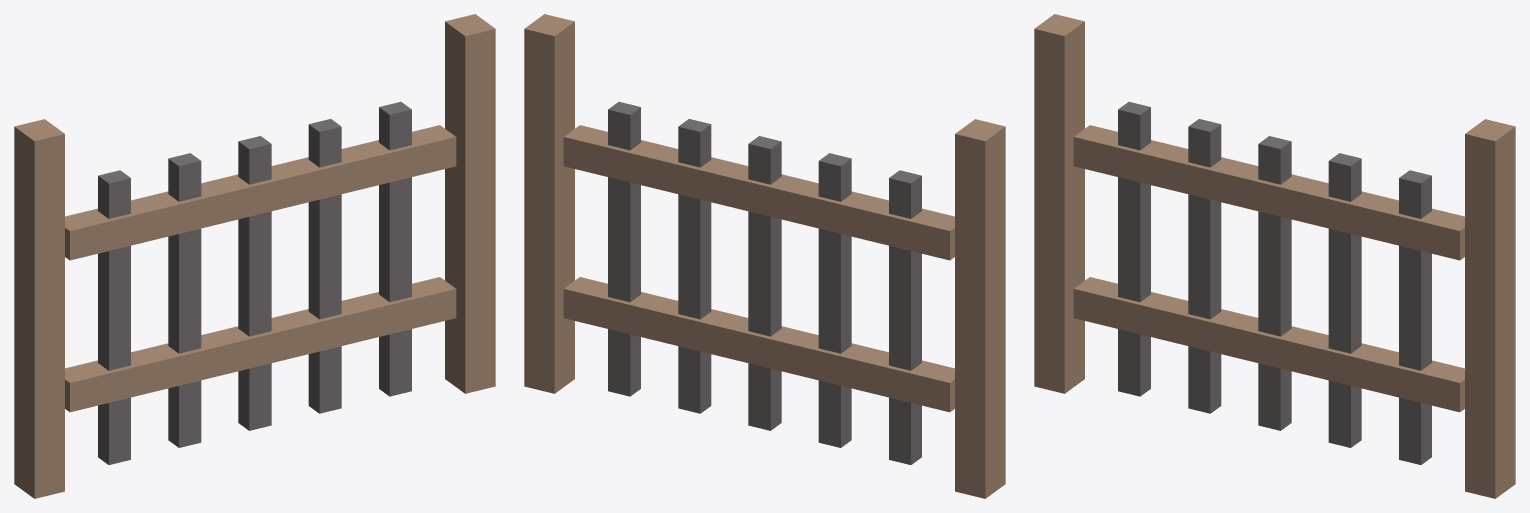
Rendered from low_courtyard_fence_gate.glb.
3 renders of one model, left to right at view 1: azimuth 30°, elevation 25°; view 2: azimuth 150°, elevation 25°; view 3: azimuth 330°, elevation 25°, orthographic.
Parts seen in each view (by area): view 1: box_0, box_1, box_7, box_8, box_3, box_4, box_5, box_6, box_2; view 2: box_0, box_1, box_7, box_8, box_3, box_4, box_5, box_6, box_2; view 3: box_1, box_0, box_7, box_8, box_5, box_4, box_3, box_2, box_6.
Part boxes in pixels (bbox=[...]): box_0: bbox=[14, 119, 64, 498]; box_1: bbox=[445, 14, 495, 393]; box_7: bbox=[65, 277, 456, 412]; box_8: bbox=[65, 125, 456, 260]; box_3: bbox=[168, 153, 201, 447]; box_4: bbox=[238, 136, 271, 430]; box_5: bbox=[308, 119, 341, 413]; box_6: bbox=[379, 101, 411, 396]; box_2: bbox=[98, 170, 130, 464]; box_0: bbox=[955, 119, 1005, 498]; box_1: bbox=[524, 14, 574, 393]; box_7: bbox=[563, 277, 954, 412]; box_8: bbox=[563, 125, 954, 260]; box_3: bbox=[818, 153, 851, 447]; box_4: bbox=[748, 136, 781, 430]; box_5: bbox=[678, 119, 711, 413]; box_6: bbox=[608, 101, 640, 396]; box_2: bbox=[889, 170, 921, 464]; box_1: bbox=[1465, 119, 1515, 498]; box_0: bbox=[1034, 14, 1084, 393]; box_7: bbox=[1073, 277, 1464, 412]; box_8: bbox=[1073, 125, 1464, 260]; box_5: bbox=[1328, 153, 1361, 447]; box_4: bbox=[1258, 136, 1291, 430]; box_3: bbox=[1188, 119, 1221, 413]; box_2: bbox=[1118, 101, 1150, 396]; box_6: bbox=[1399, 170, 1431, 464].
Bounding box in the file's own units: 1.97 × 1.46 × 0.15.
